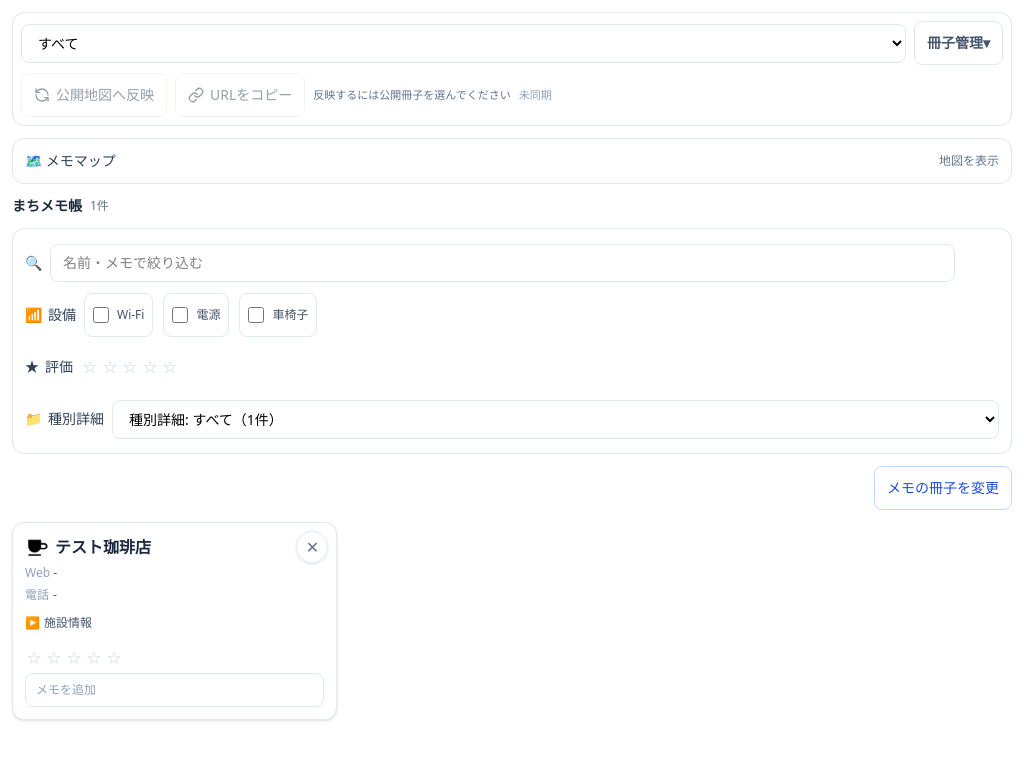
Test: 公開地図へ反映の認証 › 認証を開始できない場合に同期ボタンの近くにエラーを表示する
Select "デフォルト（公開）" in the dropdown named "スクラップブック": (464, 43) [21,24,906,62]
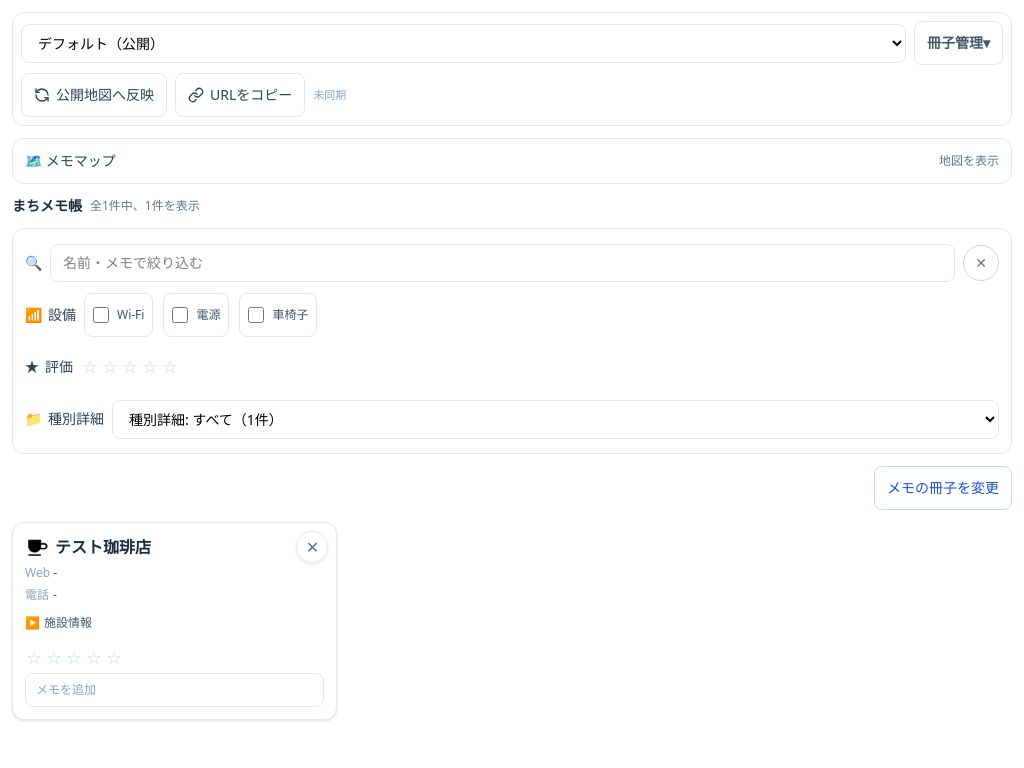
Click the button "公開地図へ反映": (94, 95) [21,73,167,117]
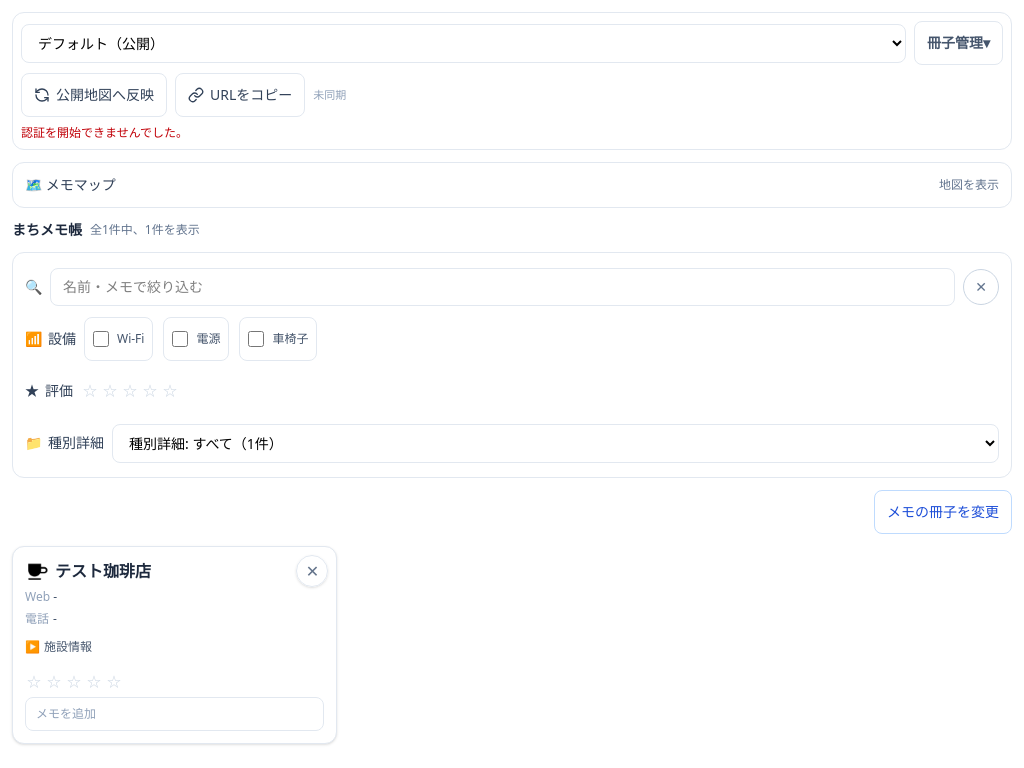
Expected: the button "公開地図へ反映" is enabled, [21,73,167,117]
Expected: the message reads "認証を開始できませんでした。", [21,124,188,141]
